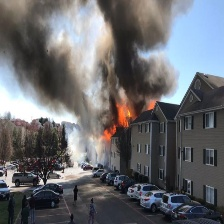fire: (103, 98, 155, 142)
smoke: (1, 1, 201, 107)
